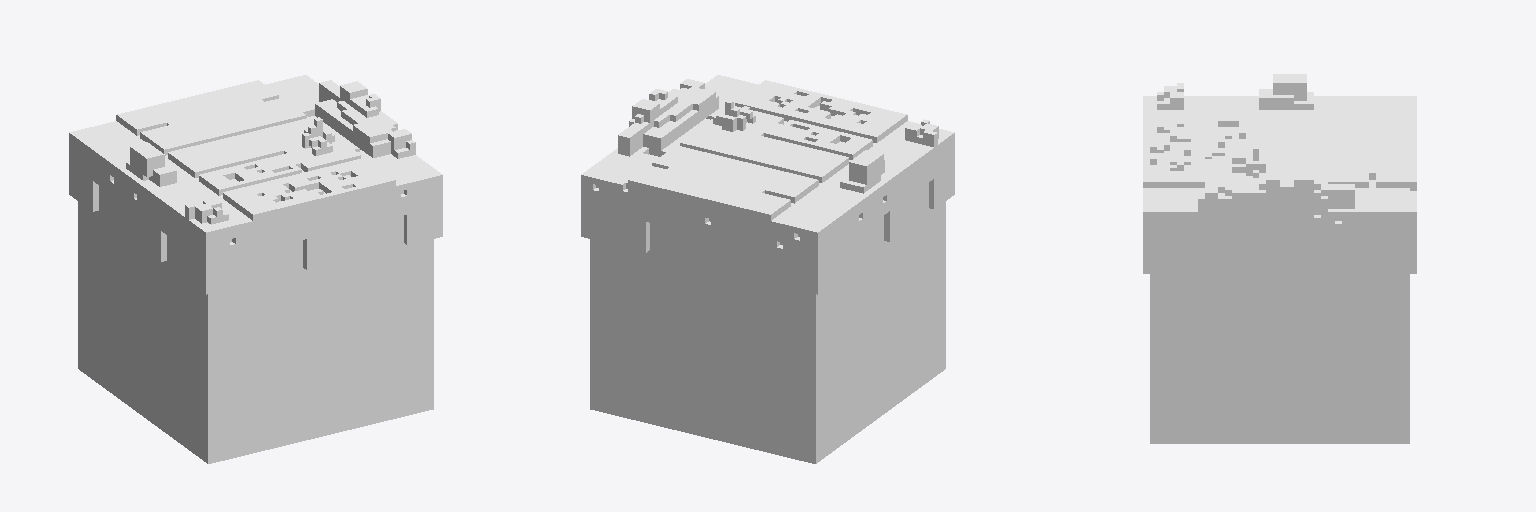
The model's file is tile_base_road_3.obj.
3 views of the same model, side by side, from view 1: azimuth 30°, elevation 25°; view 2: azimuth 150°, elevation 25°; view 3: azimuth 270°, elevation 25° (orthographic).
Parts seen in each view (by area): view 1: tile_base_road_3; view 2: tile_base_road_3; view 3: tile_base_road_3.
Part boxes in pixels (x1,y1,x2,y2): tile_base_road_3: (69, 75, 442, 463); tile_base_road_3: (581, 75, 954, 463); tile_base_road_3: (1143, 74, 1416, 443).
Size of the model in its own units: 40 by 43 by 40.